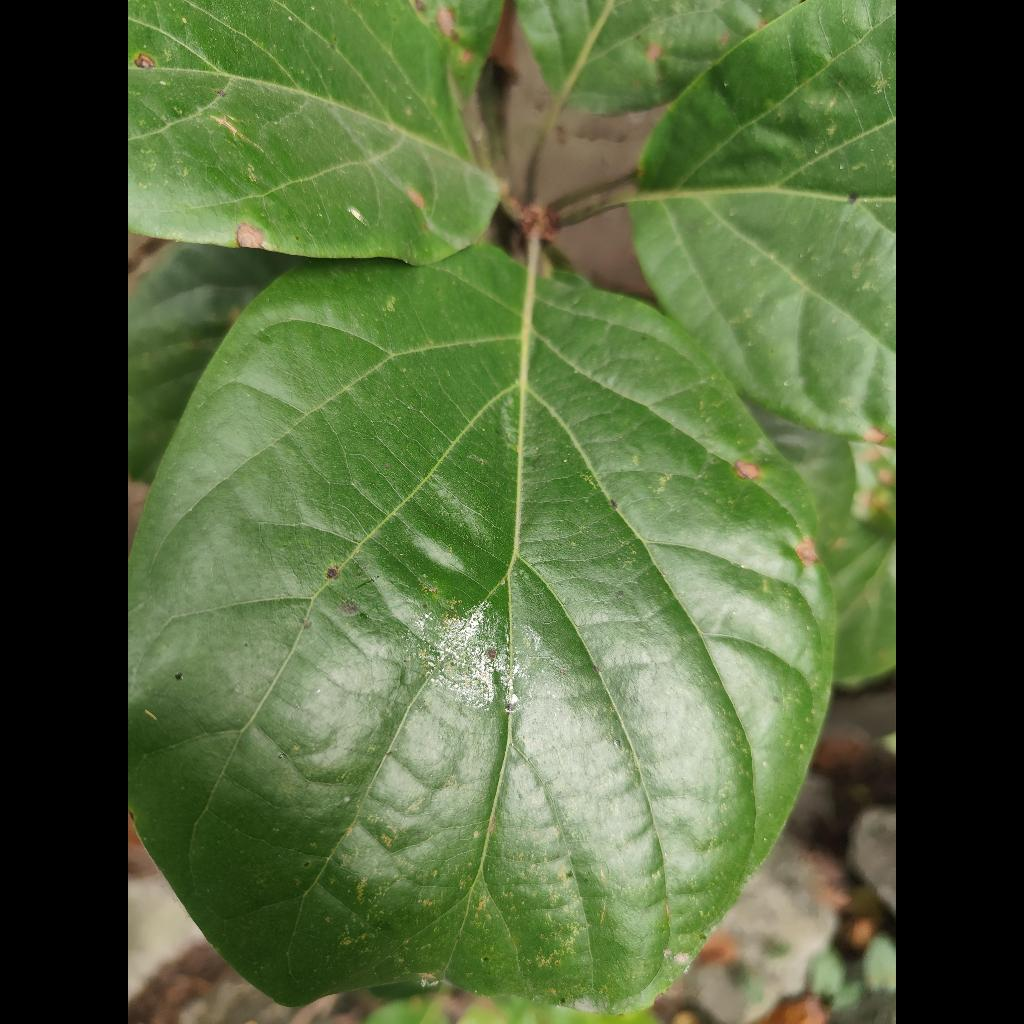Anthracnose: (128, 246, 833, 1012)
